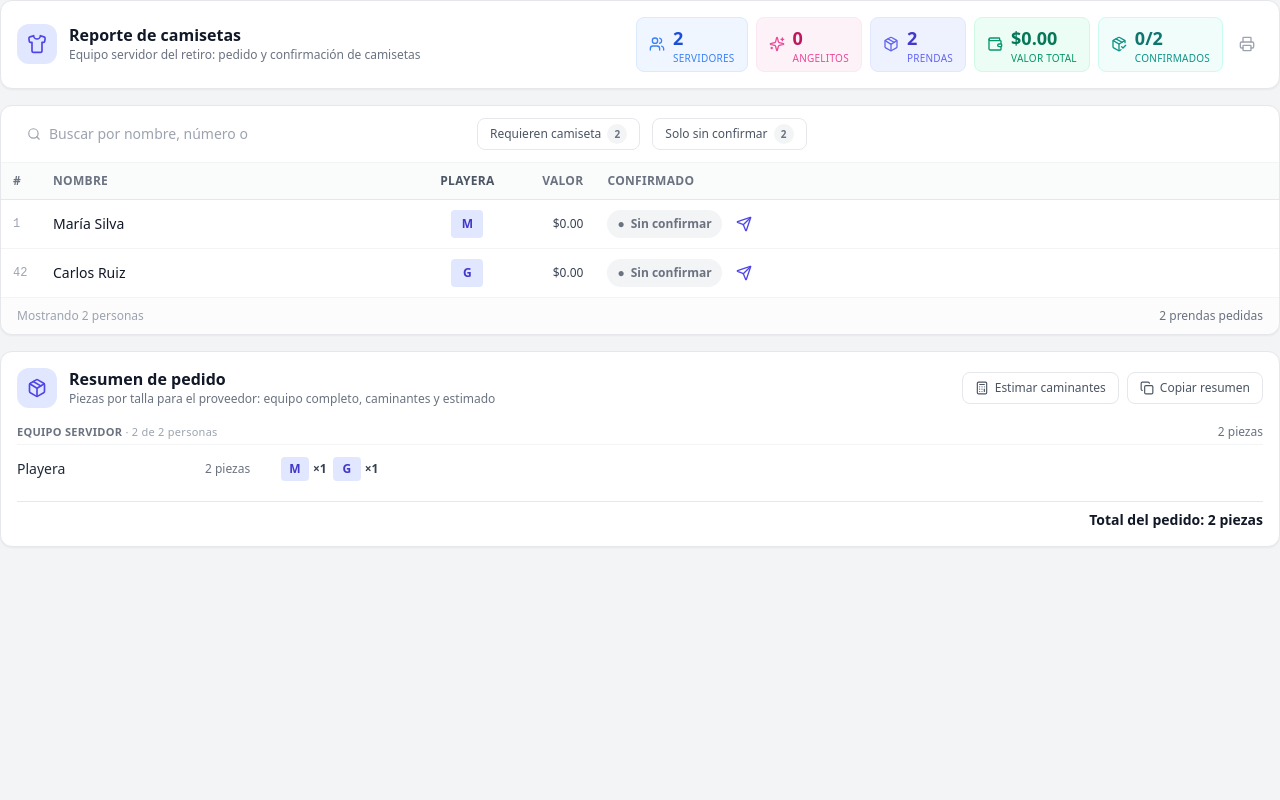
Test: ShirtsReportView › búsqueda › filtra por idOnRetreat
This screenshot has width=1280, height=800.
Type "42" into the field with placeholder "Buscar por nombre, número o talla..." at (150, 134), box 17,118 -> 283,150
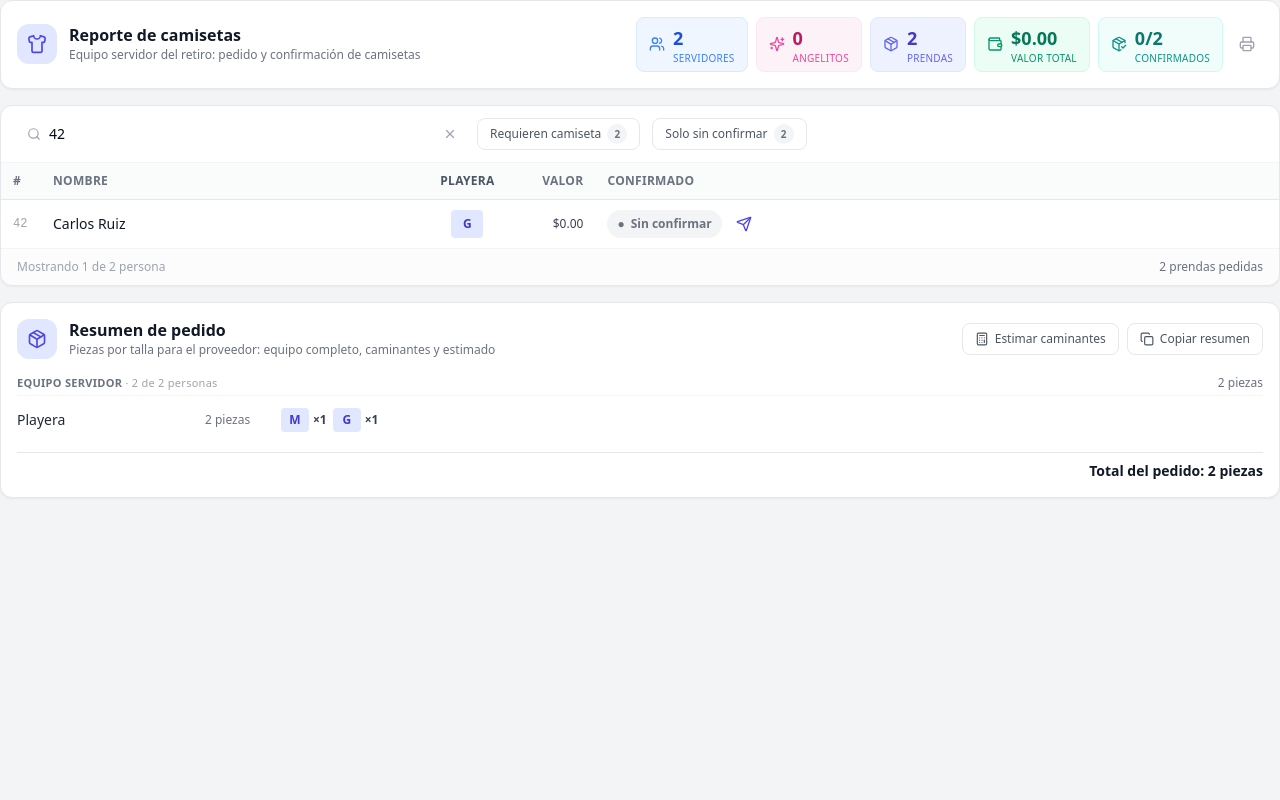
Expected: the text "Carlos" is shown, 53,214 -> 126,232
Expected: the text "María" is gone
